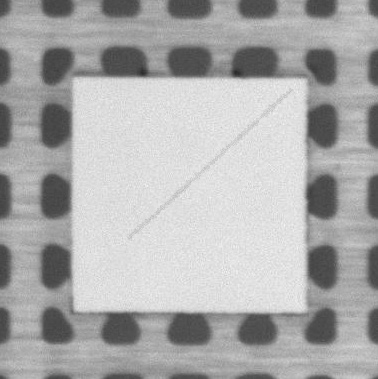DIE_CRACK: (129, 90, 290, 239)
